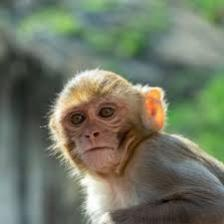monkey: (43, 68, 224, 223)
